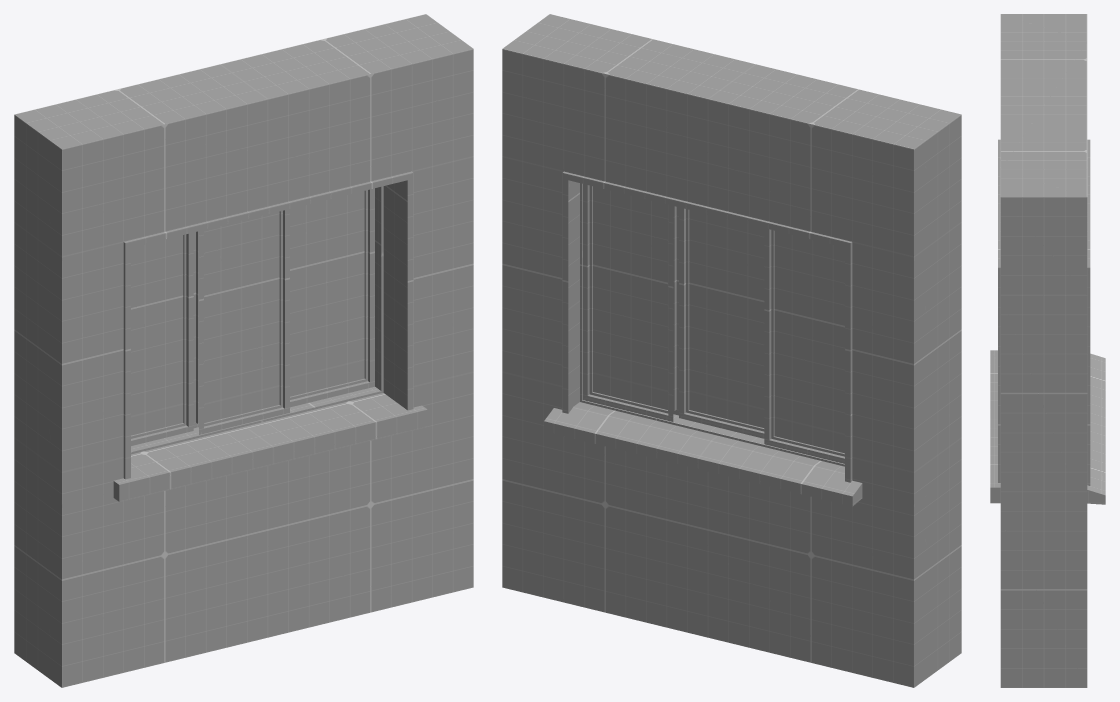
The model's file is Window_1x2.fbx.
The picture shows the model from 3 angles, left to right: view 1: azimuth 30°, elevation 25°; view 2: azimuth 150°, elevation 25°; view 3: azimuth 270°, elevation 25°; orthographic projection. The views are drawn at different scales.
Parts seen in each view (by area): view 1: Window_1x2; view 2: Window_1x2; view 3: Window_1x2.
Boxes of the visible parts, left/top/right/bottom form: Window_1x2: left=14, top=14, right=473, bottom=687; Window_1x2: left=502, top=14, right=961, bottom=687; Window_1x2: left=990, top=14, right=1105, bottom=687.
Size of the model in its own units: 200 by 250 by 53.13.
